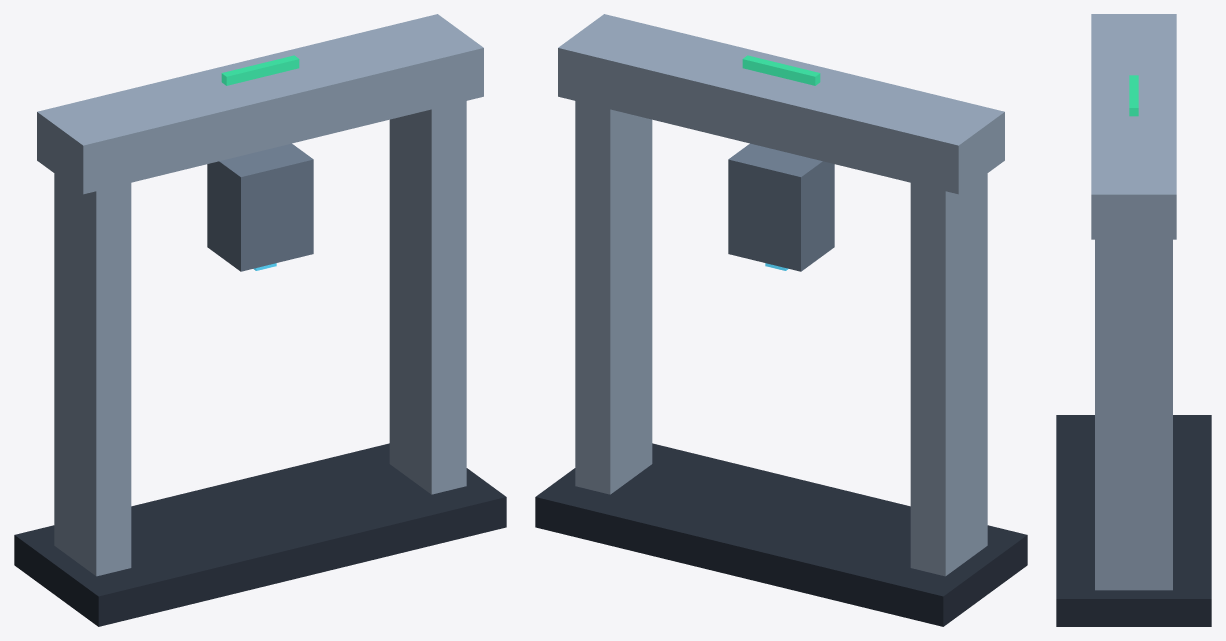
Rendered from thickness-scanner.glb.
The picture shows the model from 3 angles, left to right: view 1: azimuth 30°, elevation 25°; view 2: azimuth 150°, elevation 25°; view 3: azimuth 270°, elevation 25°; orthographic projection. The views are drawn at different scales.
Bounding box in the file's own units: 95.2 × 107 × 34.
